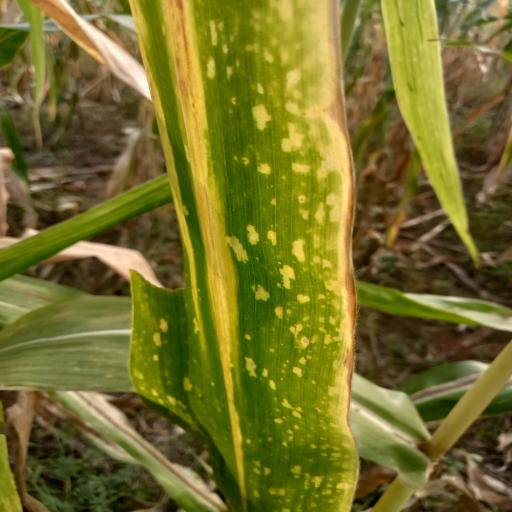Corn_Yellow_Spots: (125, 0, 362, 512)
